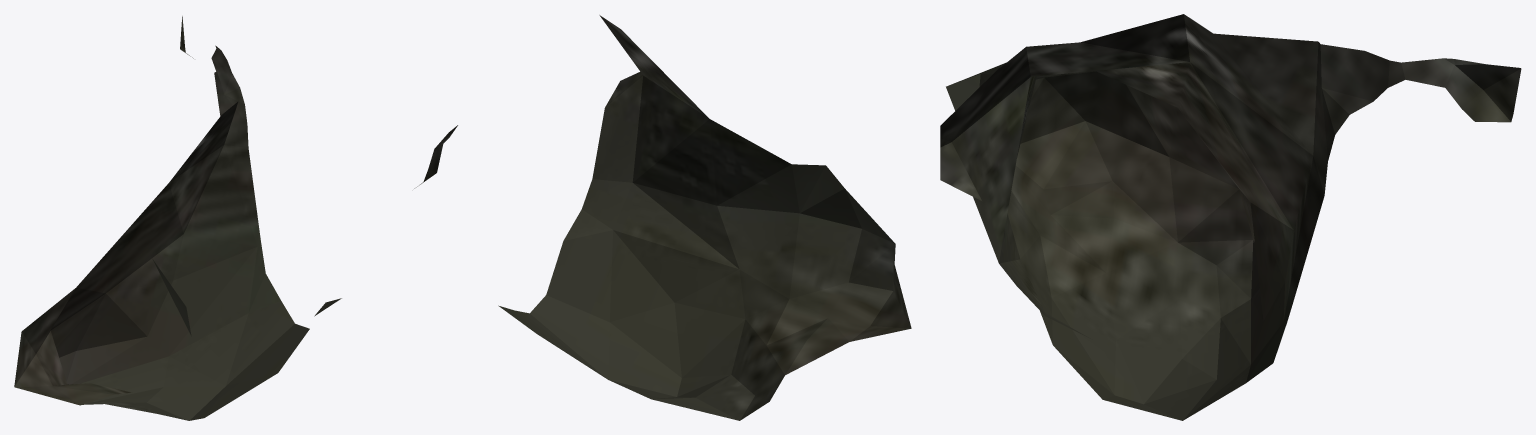
3 views of the same model, side by side, from view 1: azimuth 30°, elevation 25°; view 2: azimuth 150°, elevation 25°; view 3: azimuth 270°, elevation 25° (orthographic). The views are drawn at different scales.
Bounding box in the file's own units: 1.23 × 1.06 × 1.32.
Materials: 1 (1 with a texture image).
